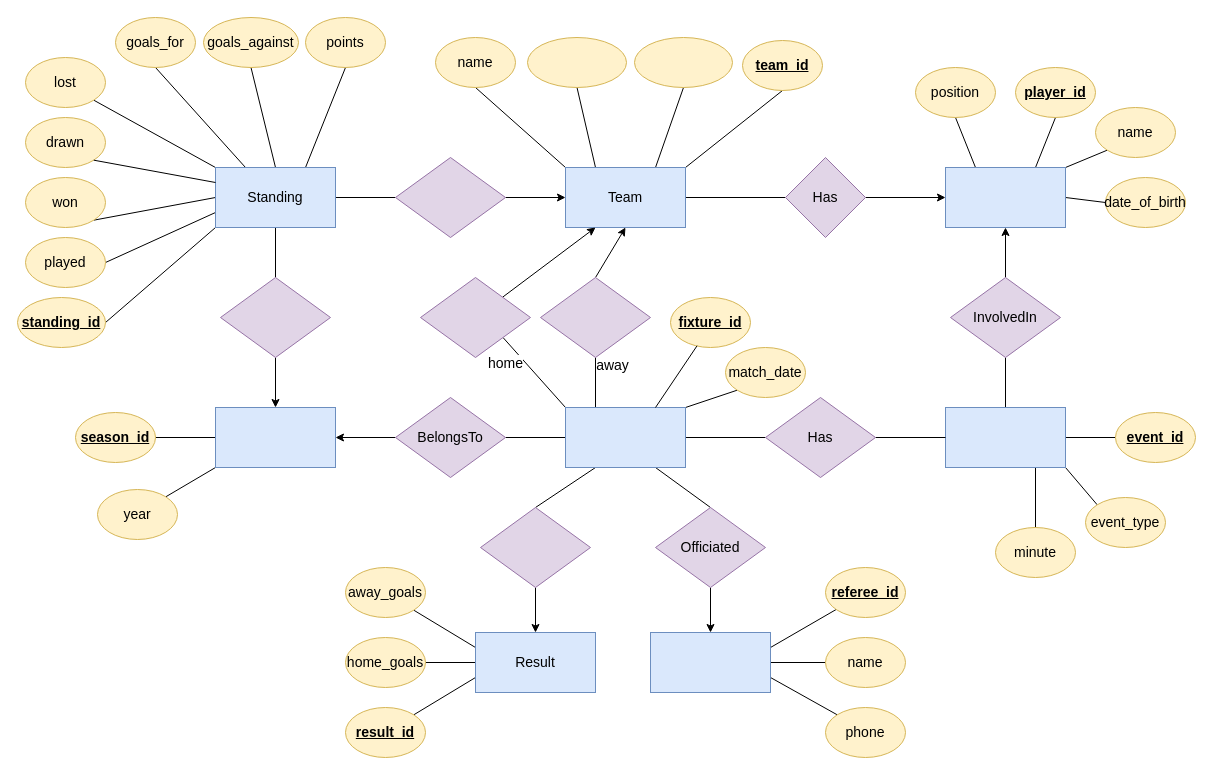
This 1213x775 diagram has some shape labels left out. Each missing label, with the centre of its shape:
"Fixture" goes at point (625, 437).
"founded_year" goes at point (576, 62).
"home_ground" goes at point (683, 62).
"InSeason" goes at point (275, 317).
"MatchEvent" goes at point (1005, 437).
"Player" goes at point (1005, 197).
"PlaysAway" goes at point (595, 317).
"PlaysHome" goes at point (475, 317).
"Produces" goes at point (535, 547).
"Referee" goes at point (710, 662).
"Season" goes at point (275, 437).
"Tracked" goes at point (450, 197).
